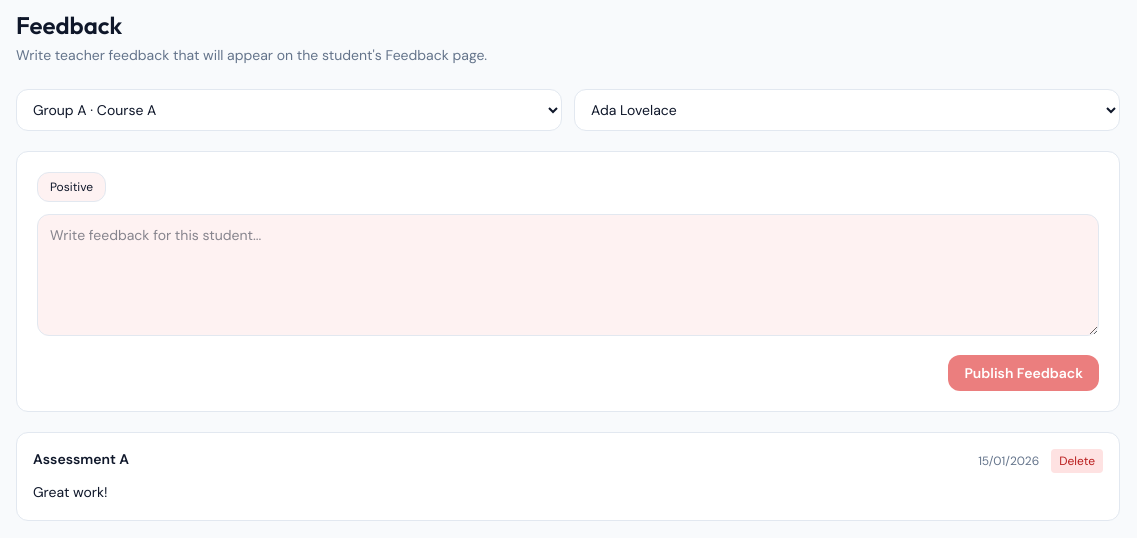
Test: TeacherFeedback › fills the textarea from a template button
Click the button "Positive" at (72, 187), box [37,172,106,202]
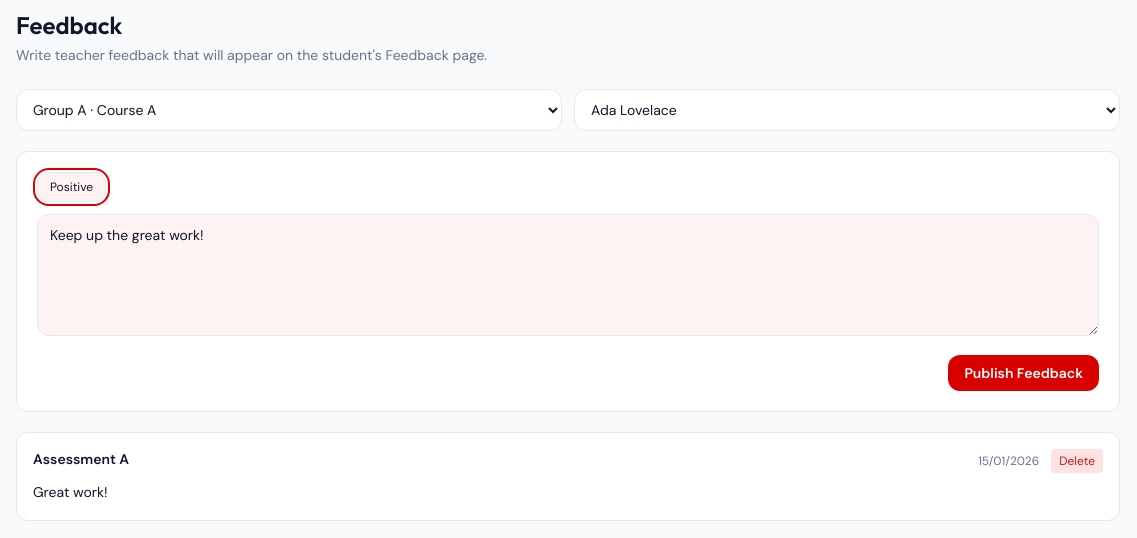
Now the text box with placeholder "Write feedback for this student..." holds "Keep up the great work!", box [37,214,1099,336]
